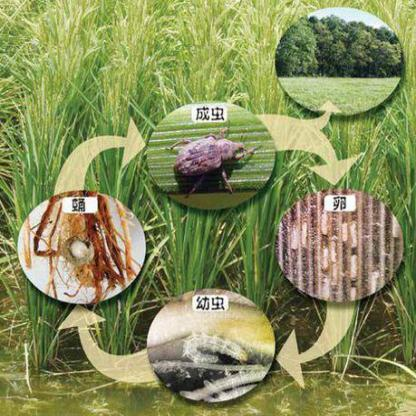rice-bug: (169, 128, 245, 196)
